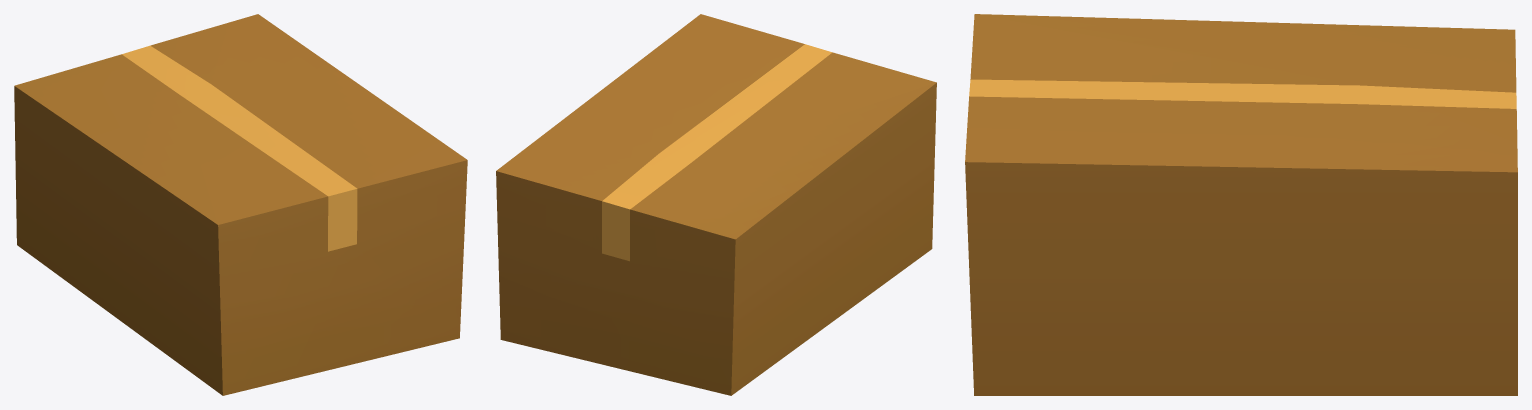
3 views of the same model, side by side, from view 1: azimuth 30°, elevation 25°; view 2: azimuth 150°, elevation 25°; view 3: azimuth 270°, elevation 25° (orthographic). The views are drawn at different scales.
Parts seen in each view (by area): view 1: Box_5; view 2: Box_5; view 3: Box_5.
Part boxes in pixels (x1,y1,x2,y2): Box_5: [14, 14, 467, 395]; Box_5: [496, 14, 936, 395]; Box_5: [965, 14, 1517, 395].
Bounding box in the file's own units: 51.37 × 35.81 × 75.8.
